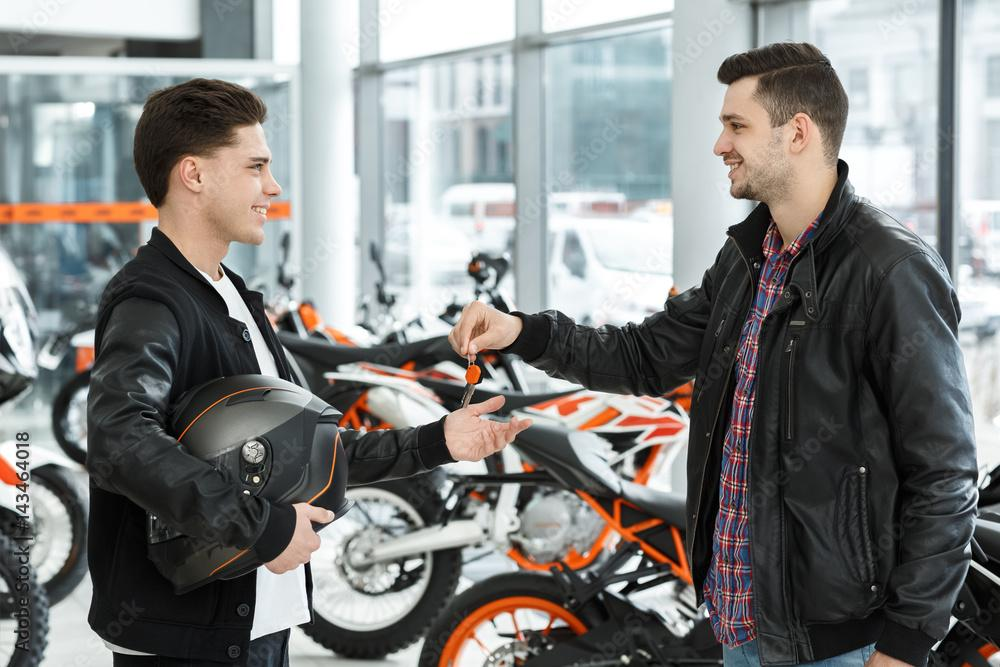helmet: (145, 372, 356, 597)
nohelmet: (132, 76, 283, 247), (712, 41, 850, 202)
